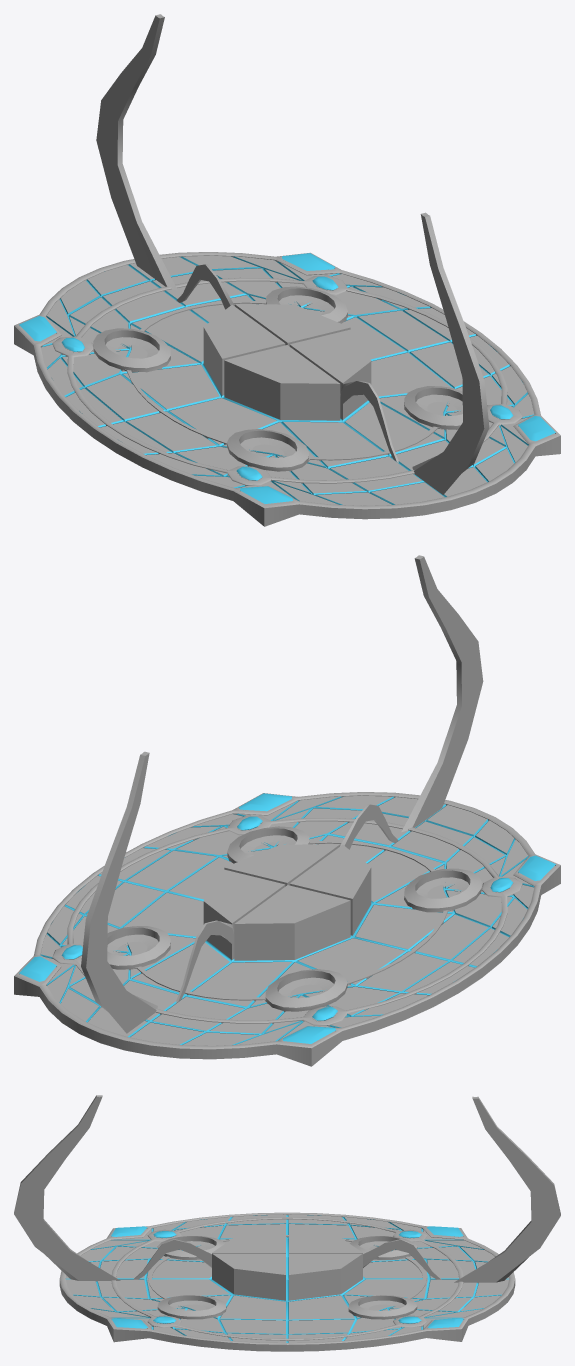
File: HomeBase_UV_V1.FBX
3 views of the same model, one above another, from view 1: azimuth 30°, elevation 25°; view 2: azimuth 150°, elevation 25°; view 3: azimuth 270°, elevation 25° (orthographic). The views are drawn at different scales.
Visible parts, largest first — view 1: TiledFloor11, OuterRing10, InnerRing10, TiledFloor12, Hooks50, Hooks47, Middle_RIng10, Saphire10, Hooks49, Ruby10, Hooks48; view 2: TiledFloor11, OuterRing10, InnerRing10, TiledFloor12, Hooks47, Hooks50, Middle_RIng10, Saphire10, Hooks48, Ruby10, Hooks49; view 3: TiledFloor11, OuterRing10, Hooks50, Hooks47, TiledFloor12, InnerRing10, Middle_RIng10, Saphire10, Hooks48, Hooks49, Ruby10.
Boxes of the visible parts, x1,y1,x2,y2 form: TiledFloor11: (41,255,533,505); OuterRing10: (14,252,560,526); InnerRing10: (93,286,462,471); TiledFloor12: (41,256,533,504); Hooks50: (96,14,177,290); Hooks47: (412,212,489,494); Middle_RIng10: (52,275,522,485); Saphire10: (19,253,555,503); Hooks49: (340,380,398,462); Ruby10: (61,276,513,480); Hooks48: (176,264,234,309); TiledFloor11: (41,795,533,1045); OuterRing10: (14,792,560,1066); InnerRing10: (107,826,481,1011); TiledFloor12: (40,796,534,1045); Hooks47: (401,555,483,832); Hooks50: (81,751,157,1033); Middle_RIng10: (52,815,522,1025); Saphire10: (19,793,555,1043); Hooks48: (176,920,234,1002); Ruby10: (61,816,513,1020); Hooks49: (340,804,398,849); TiledFloor11: (66,1214,508,1342); OuterRing10: (59,1212,515,1351); Hooks50: (454,1096,560,1283); Hooks47: (14,1095,120,1281); TiledFloor12: (66,1215,508,1342); InnerRing10: (148,1235,426,1319); Middle_RIng10: (111,1217,463,1341); Saphire10: (111,1226,463,1328); Hooks48: (363,1239,441,1279); Hooks49: (133,1239,211,1279); Ruby10: (153,1231,421,1323).
Size of the model in its own units: 48.85 by 33.89 by 85.43.
